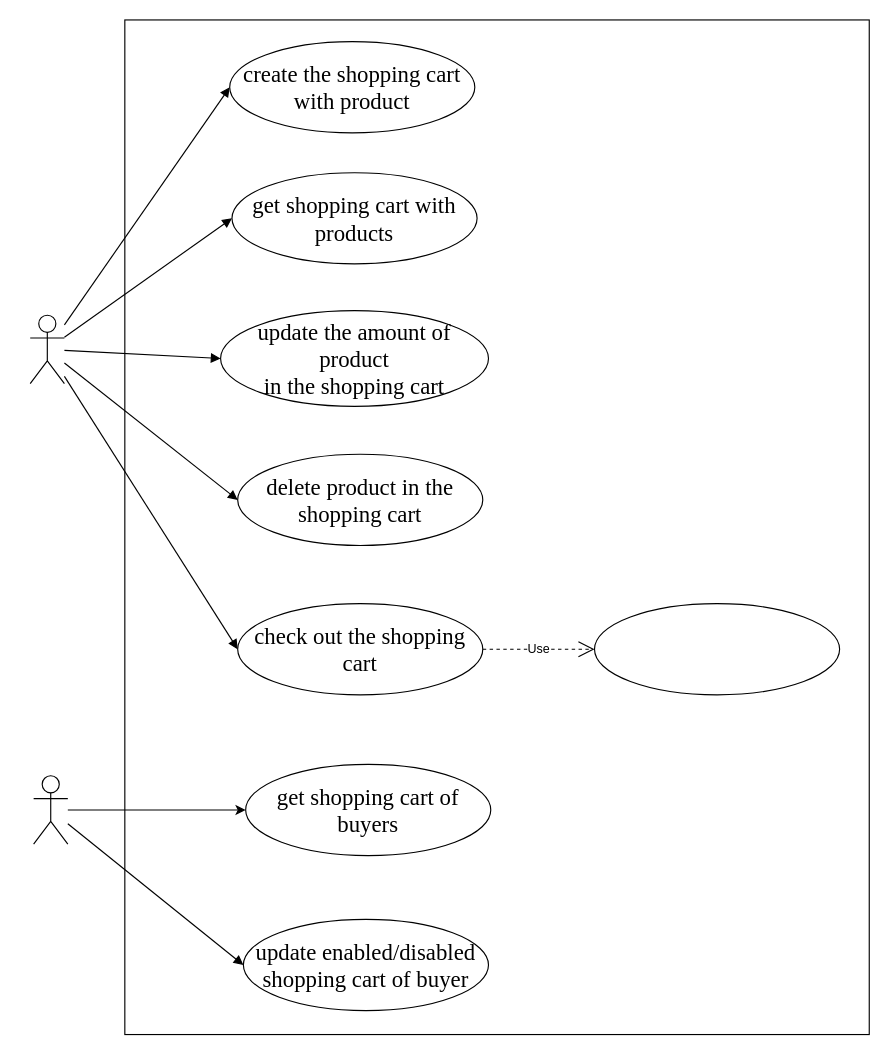
The diagram is 889 pixels wide and 1055 high, and some of its shapes have lost their labels. The box of each missing label's shape, as (x1, y1, x2, y2) in pixels:
Buyer: (29, 314, 64, 384)
SysAdmin: (32, 775, 68, 844)
update product with inventory: (593, 602, 840, 695)
